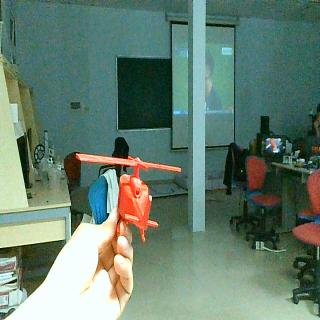Helicopter: (76, 150, 182, 244)
